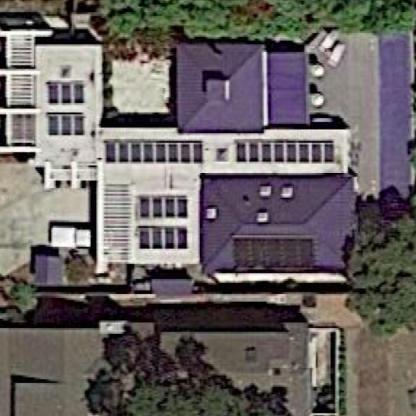solar_panel: (223, 224, 323, 276), (98, 133, 212, 174), (229, 136, 342, 174), (128, 188, 192, 224), (127, 224, 192, 251), (40, 109, 92, 139), (42, 74, 84, 110)
